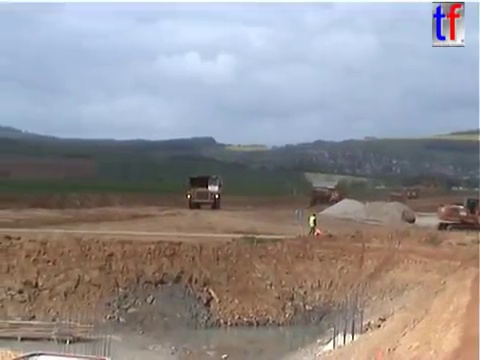excavator: (435, 194, 480, 236)
truck: (184, 173, 224, 210), (308, 184, 331, 208), (326, 186, 344, 205), (387, 186, 405, 204), (404, 187, 419, 200)
worker: (306, 211, 320, 238)
